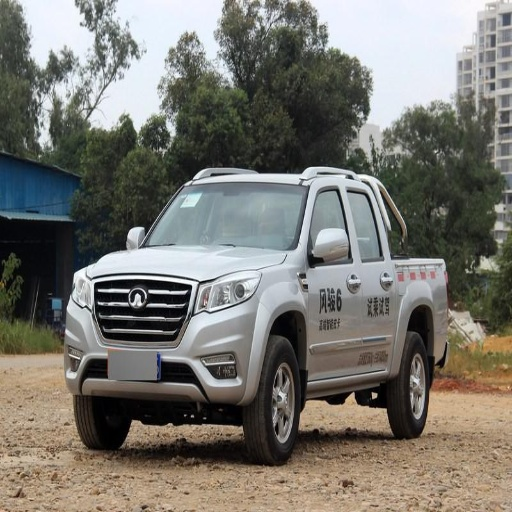front_bumper: (64, 274, 269, 405)
front_glass: (139, 184, 307, 250)
front_left_door: (304, 180, 361, 378)
trunk: (396, 261, 453, 359)
